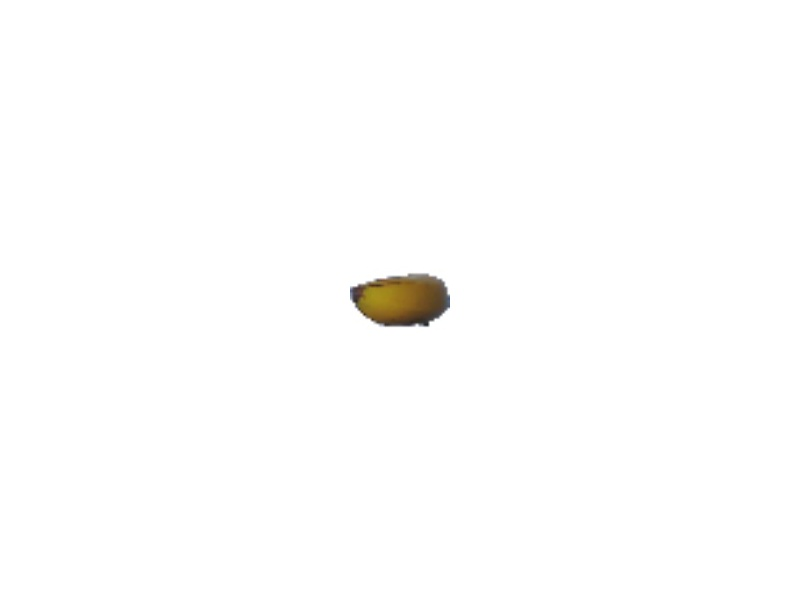banana: (345, 270, 454, 330)
